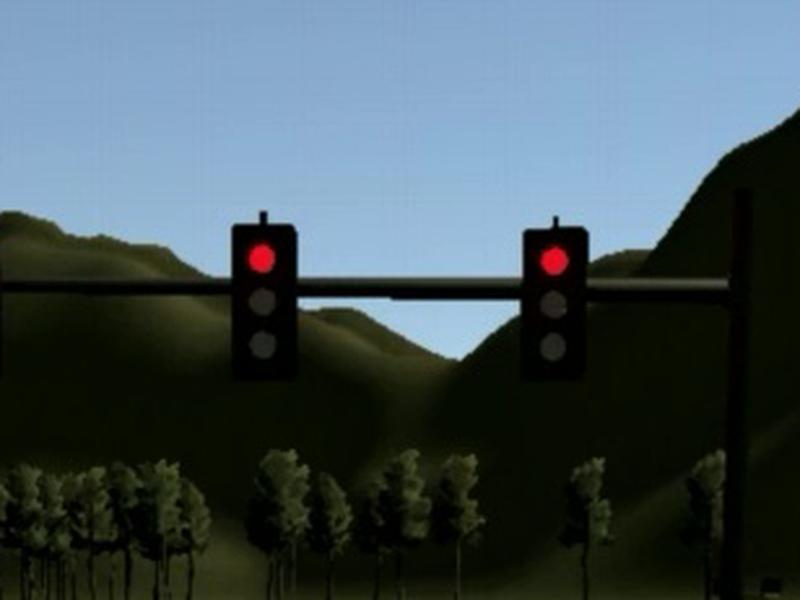Red: (231, 225, 298, 372), (523, 227, 587, 373)
